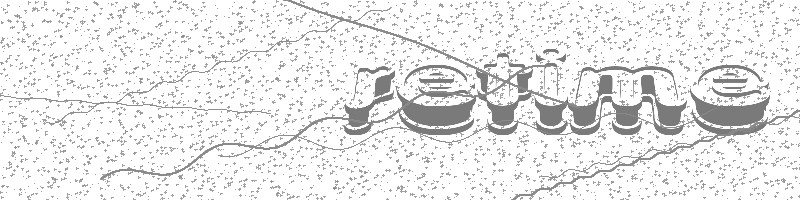e: (395, 59, 478, 137), (689, 64, 770, 135)
i: (531, 44, 569, 136)
m: (567, 66, 690, 137)
r: (342, 61, 396, 136)
t: (476, 50, 534, 137)
